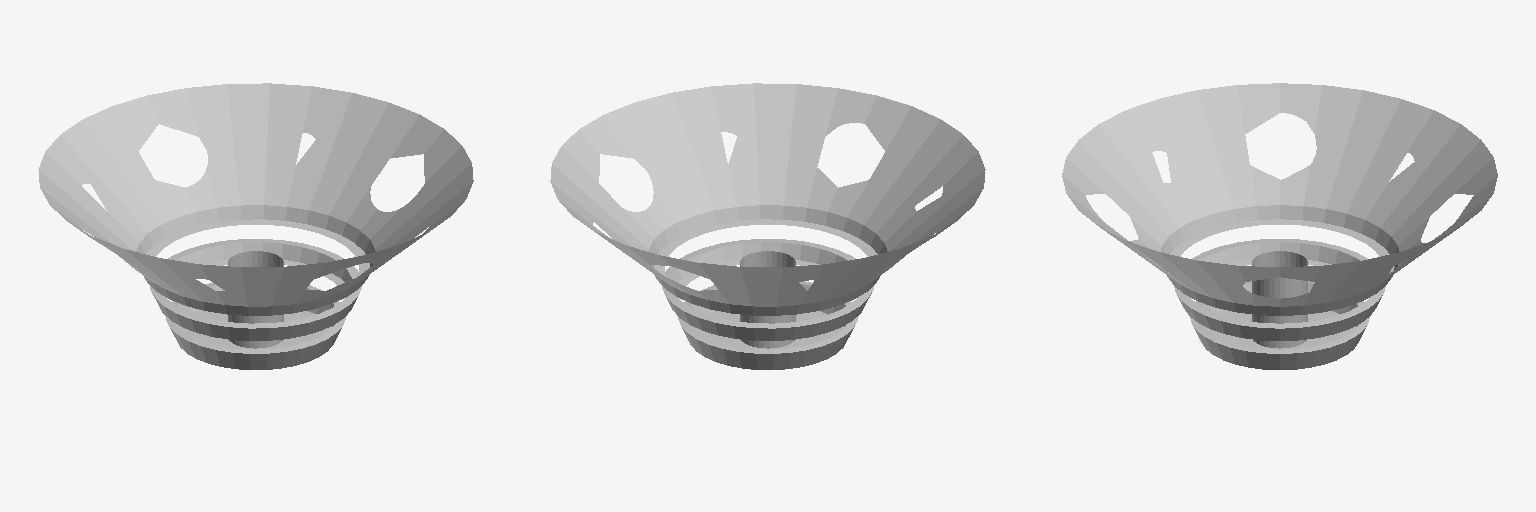
File: bottom_part.obj
3 renders of one model, left to right at view 1: azimuth 30°, elevation 25°; view 2: azimuth 150°, elevation 25°; view 3: azimuth 270°, elevation 25°, orthographic.
Parts seen in each view (by area): view 1: bottom_part; view 2: bottom_part; view 3: bottom_part.
Boxes of the visible parts, x1=… form: bottom_part: x1=38, y1=83, x2=473, y2=369; bottom_part: x1=550, y1=83, x2=985, y2=369; bottom_part: x1=1062, y1=83, x2=1497, y2=369.
Bounding box in the file's own units: 41.53 × 16.95 × 41.53.